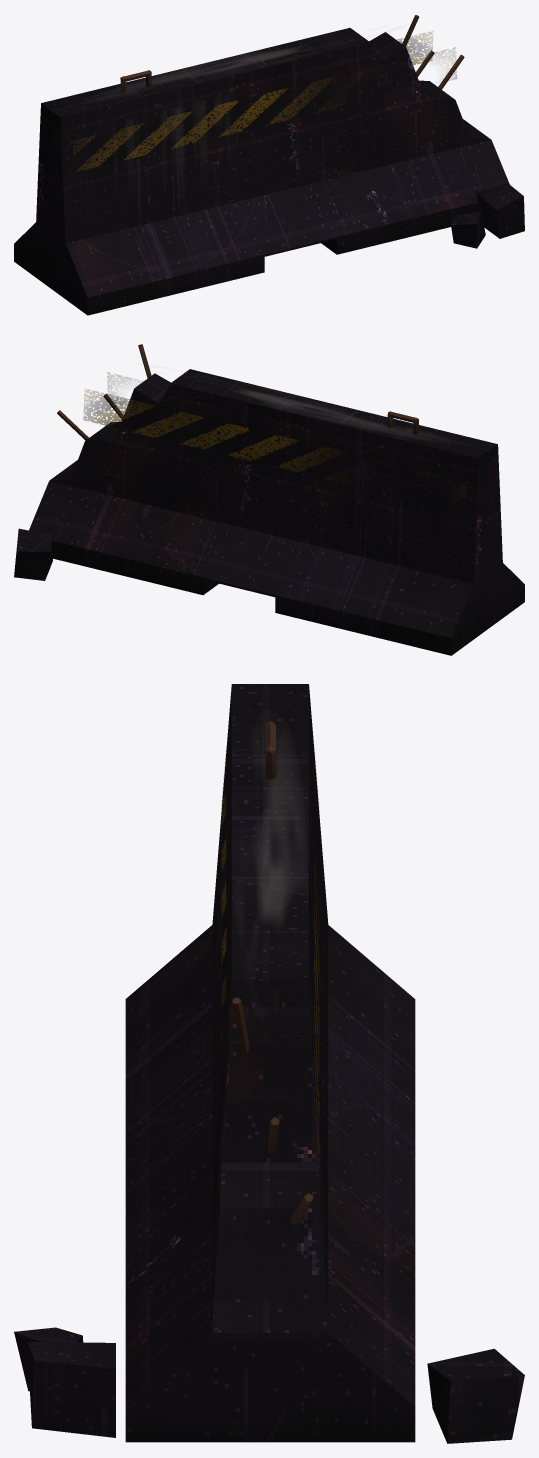
File: barrier_concrete_broken.glb
3 renders of one model, top to bottom at view 1: azimuth 30°, elevation 25°; view 2: azimuth 150°, elevation 25°; view 3: azimuth 270°, elevation 25°, orthographic. The views are drawn at different scales.
Parts seen in each view (by area): view 1: body, decals; view 2: body, decals; view 3: body, decals.
Boxes of the visible parts, bbox=[...] form: body: bbox=[14, 15, 524, 315]; decals: bbox=[73, 31, 456, 171]; body: bbox=[14, 344, 524, 655]; decals: bbox=[83, 372, 465, 512]; body: bbox=[14, 684, 524, 1443]; decals: bbox=[221, 734, 319, 1159].
Size of what is drawn, in the model's own units: 2 by 0.8924 by 1.06.
Materials: 5 (4 with a texture image).
